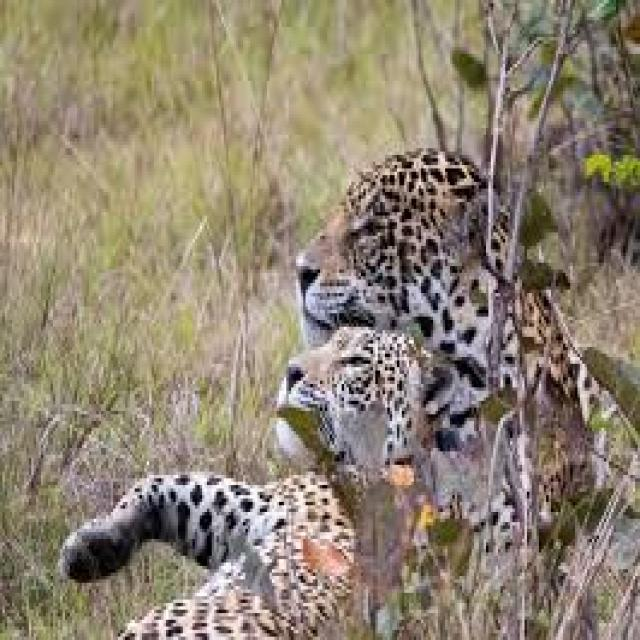Jaguar: (291, 145, 597, 532), (125, 340, 426, 627)
